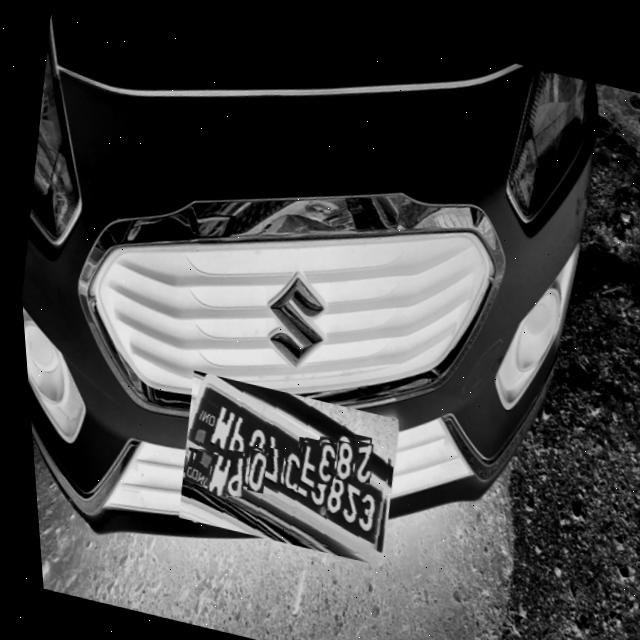0: (237, 446, 263, 491)
2: (342, 435, 369, 479)
3: (307, 436, 333, 483), (359, 433, 385, 476)
7: (252, 443, 281, 493)
8: (325, 436, 350, 479)
C: (272, 443, 298, 487)
F: (287, 437, 316, 487)
IND: (181, 447, 211, 485)
Indian_registered: (178, 372, 381, 554)
M: (198, 451, 229, 496)
P: (217, 449, 243, 496)
